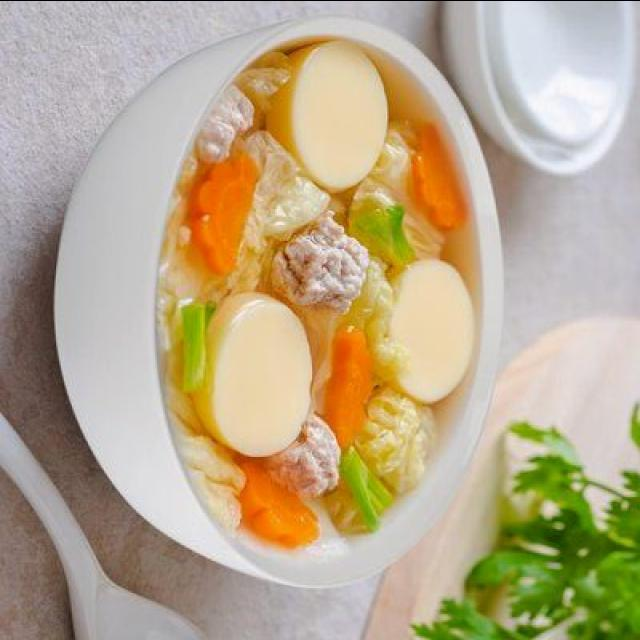sop: (154, 27, 496, 558)
